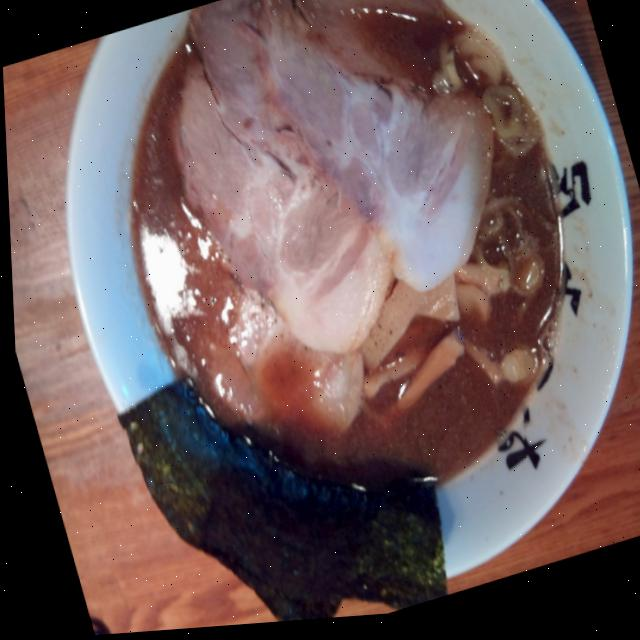面条主食: (70, 0, 638, 577)
